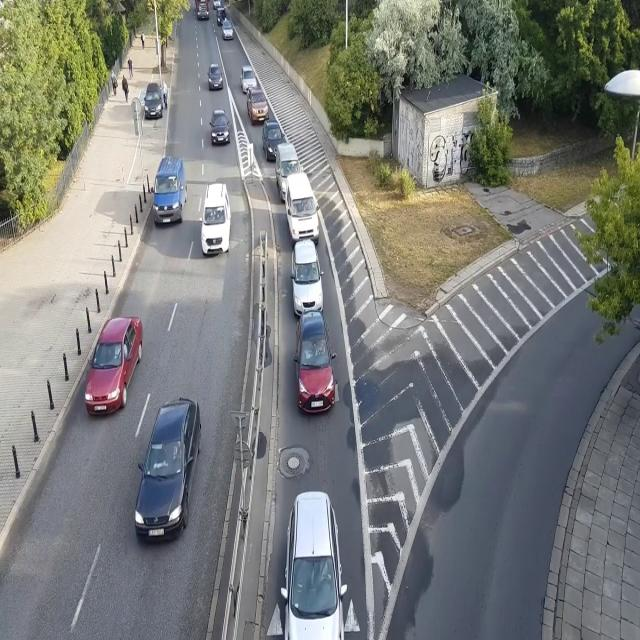car: (280, 489, 349, 640), (133, 397, 202, 544), (83, 314, 143, 415), (294, 310, 337, 414), (290, 239, 324, 316), (261, 120, 285, 162), (246, 88, 270, 124), (209, 110, 230, 146), (144, 83, 163, 119), (240, 66, 258, 94), (206, 64, 224, 90), (222, 20, 234, 40), (216, 7, 227, 26), (212, 0, 221, 9)
truck: (195, 0, 210, 21)
van: (286, 172, 320, 249), (150, 156, 187, 226), (199, 184, 231, 254), (275, 143, 302, 201)
